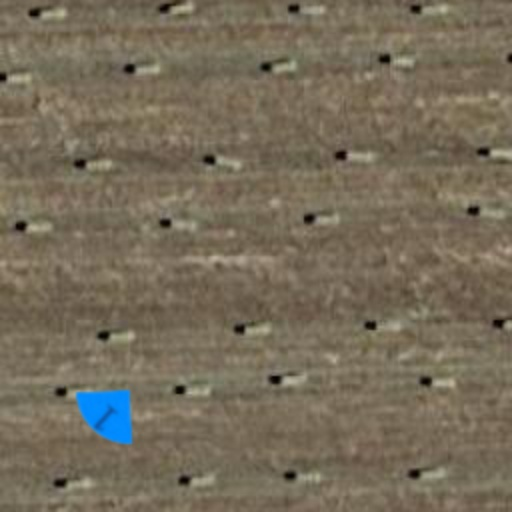quarter_circle: (56, 362, 160, 466)
